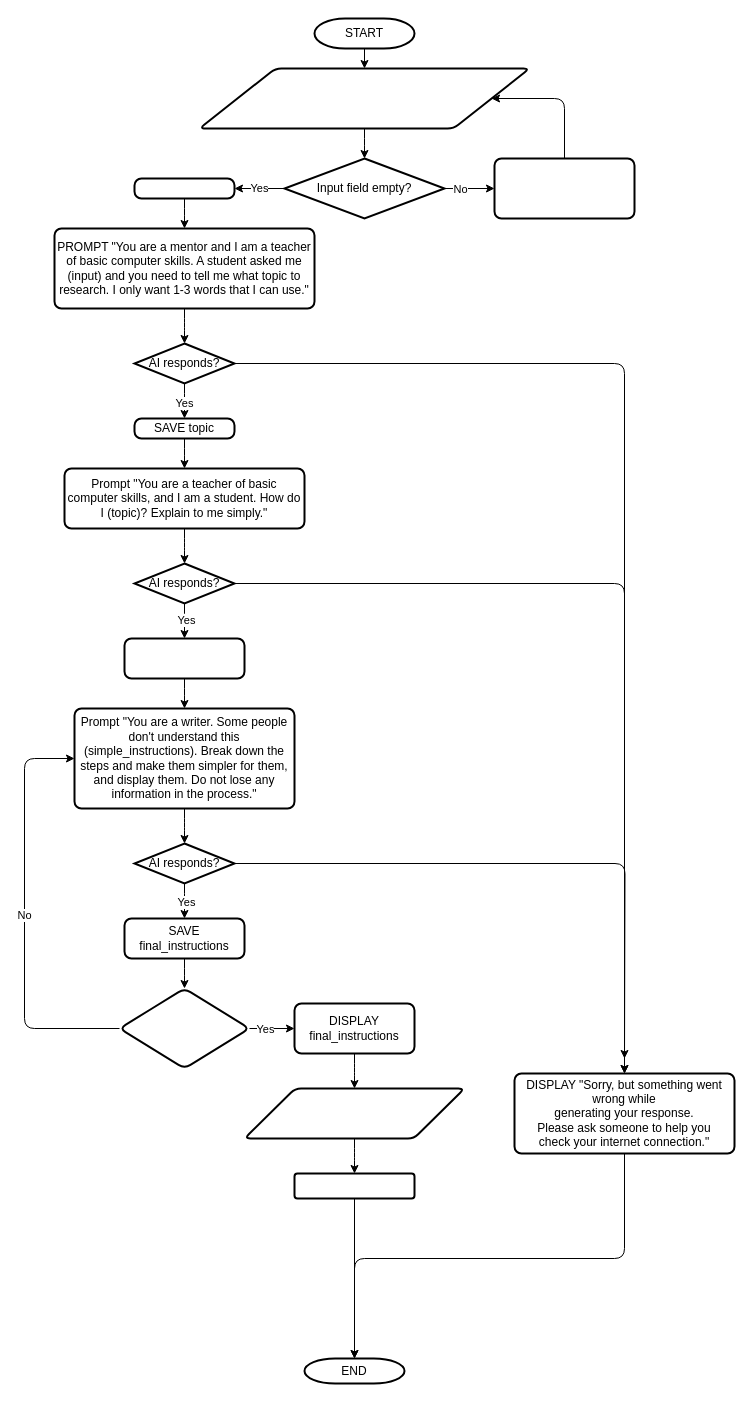
The diagram is 753 pixels wide and 1401 high, and some of its shapes have lost their labels. Each missing label, with the box of its shape:
ASK "How easy was this to understand?": (243, 1087, 465, 1139)
ASK What do you need help with?: (198, 67, 530, 129)
DISPLAY "Please enter something and try again.: (493, 157, 635, 219)
Prompted (skill_score) times?: (118, 987, 250, 1069)
SAVE input: (133, 177, 235, 199)
SAVE simple_instructions: (123, 637, 245, 679)
UPDATE skill_score: (293, 1172, 415, 1199)
